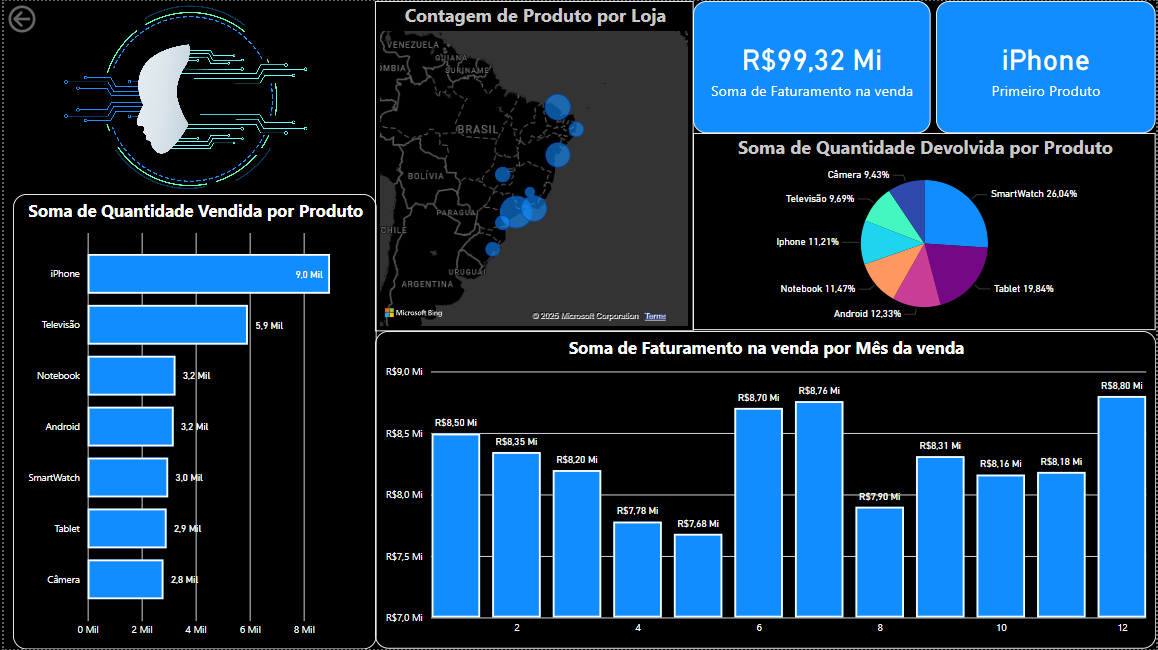

The page's visual inventory and layout, read from the dashboard file:
{"tool":"powerbi","page":{"name":"Página 1","canvas":[1280,720],"ordinal":0},"visuals":[{"type":"barChart","fields":{"Category":["Base_Vendas.Produto"],"Y":["Sum(Base_Vendas.Quantidade Vendida)"]},"box":[10,214,404,506],"z":0},{"type":"image","box":[21.1,0,362.2,214.4],"z":1000},{"type":"card","fields":{"Values":["Sum(Base_Vendas.Faturamento na venda)"]},"box":[765.7,0,264.3,147.1],"z":2000},{"type":"actionButton","box":[0,0,100,40],"z":3000},{"type":"card","fields":{"Values":["Min(Base_Vendas.Produto)"]},"box":[1035.7,0,244.3,147.1],"z":4000},{"type":"columnChart","fields":{"Y":["Sum(Base_Vendas.Faturamento na venda)"],"Category":["Base_Vendas.Mês da venda"]},"box":[412.2,366.7,867.8,353.3],"z":5000},{"type":"pieChart","fields":{"Y":["Sum(Base_Devolucoes.Quantidade Devolvida)"],"Category":["Base_Devolucoes.Produto"]},"box":[765.7,147.1,514.3,218.6],"z":6000},{"type":"map","fields":{"Category":["Base_Vendas.Loja"],"Size":["CountNonNull(Base_Vendas.Produto)"]},"box":[412.2,0,354.4,366.7],"z":7000}]}

Visuals, with their boxes in screenshot pixels (x1, y1, x2, y2), scaled from the page's 1280x720 canvas onto the 1158x650 screenshot:
barChart - Base_Vendas.Produto x Sum(Base_Vendas.Quantidade Vendida): (9, 193, 375, 649)
image: (19, 0, 347, 194)
card - Sum(Base_Vendas.Faturamento na venda): (693, 0, 932, 133)
actionButton: (0, 0, 90, 36)
card - Min(Base_Vendas.Produto): (937, 0, 1157, 133)
columnChart - Sum(Base_Vendas.Faturamento na venda) x Base_Vendas.Mês da venda: (373, 331, 1157, 649)
pieChart - Sum(Base_Devolucoes.Quantidade Devolvida) x Base_Devolucoes.Produto: (693, 133, 1157, 330)
map - Base_Vendas.Loja x CountNonNull(Base_Vendas.Produto): (373, 0, 694, 331)
